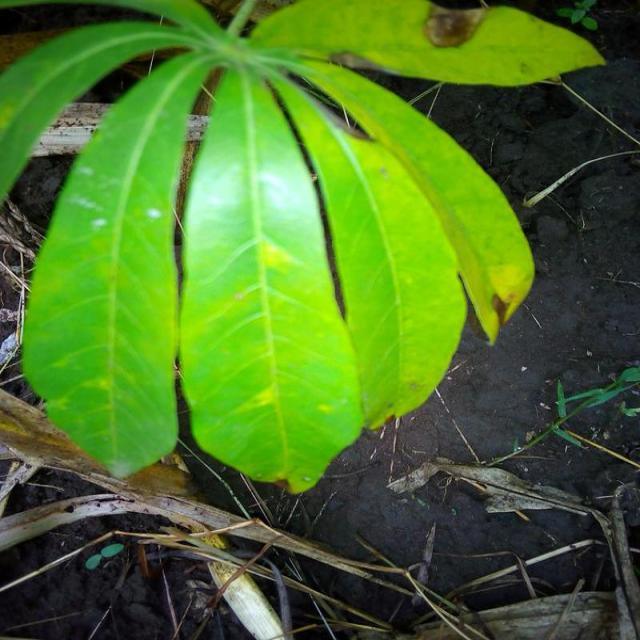cassava leaf: (2, 1, 604, 495), (20, 45, 219, 480), (178, 57, 366, 494), (248, 0, 608, 89)
